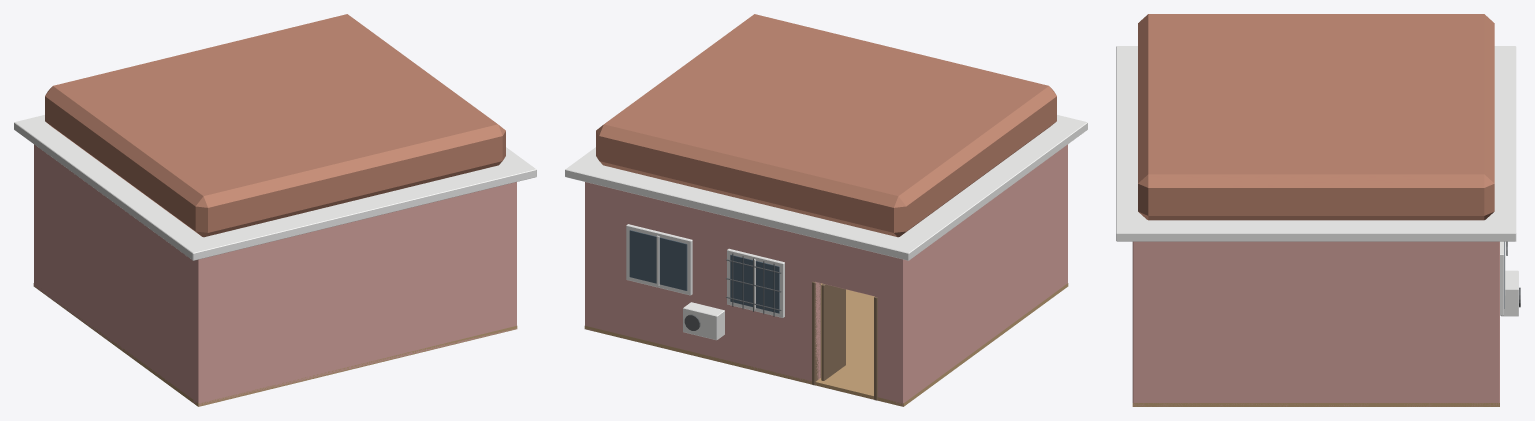
The model's file is Sultanbeyli_CoralHouse.fbx.
3 renders of one model, left to right at view 1: azimuth 30°, elevation 25°; view 2: azimuth 150°, elevation 25°; view 3: azimuth 270°, elevation 25°, orthographic. The views are drawn at different scales.
Visible parts, largest first — view 1: Sultanbeyli_CoralHouse; view 2: Sultanbeyli_CoralHouse; view 3: Sultanbeyli_CoralHouse.
Part boxes in pixels (x1,y1,x2,y2): Sultanbeyli_CoralHouse: (14, 14, 536, 406); Sultanbeyli_CoralHouse: (565, 14, 1087, 406); Sultanbeyli_CoralHouse: (1116, 14, 1520, 406).
Bounding box in the file's own units: 8.2 × 4.62 × 7.48.
